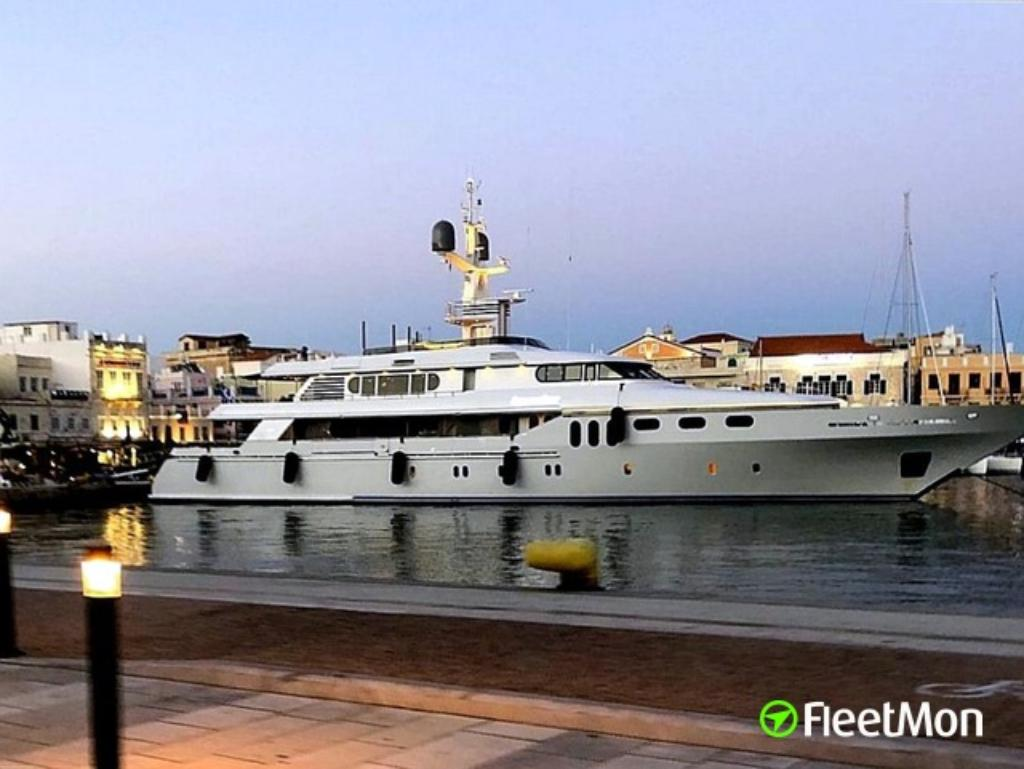PassengerShip: (148, 176, 1024, 506)
